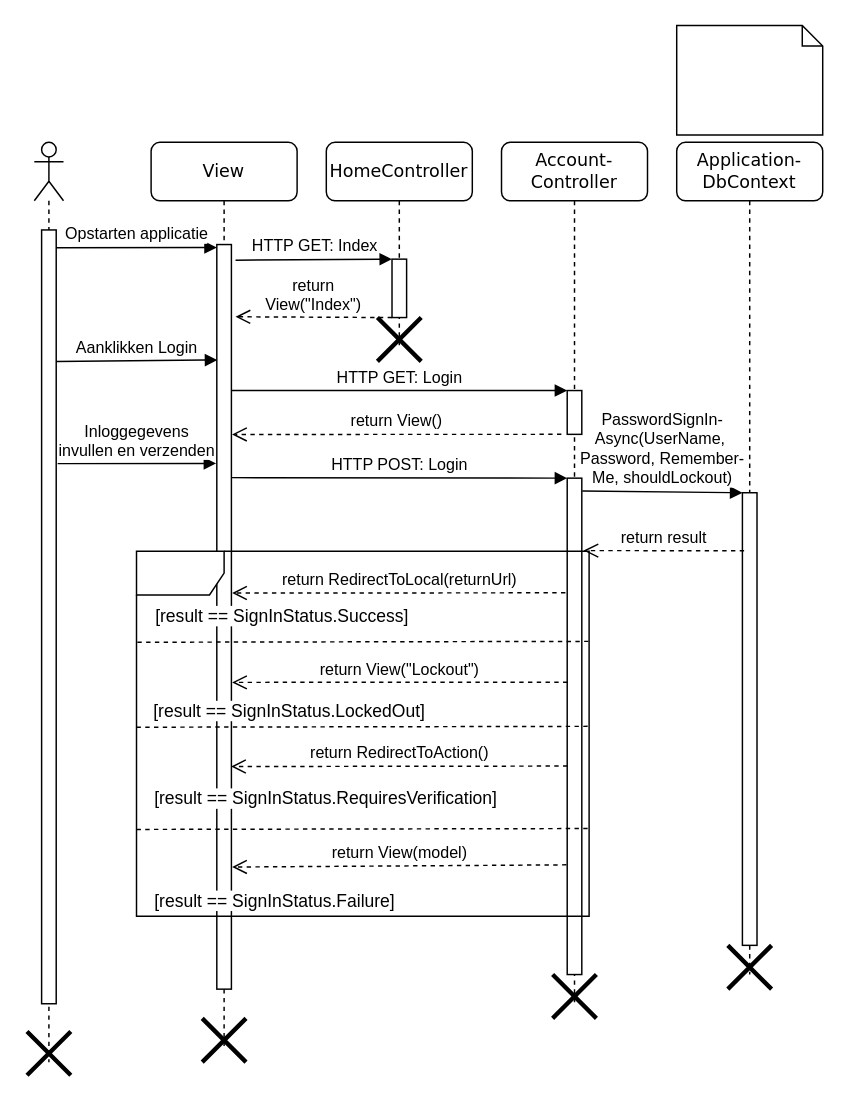
The diagram is 848 pixels wide and 1102 high, and some of its shapes have lost their labels. Each missing label, with the centre of its shape:
alt: the point at 362,733
Application-DbContext opgeroepen via Entity Framework: the point at 749,79
